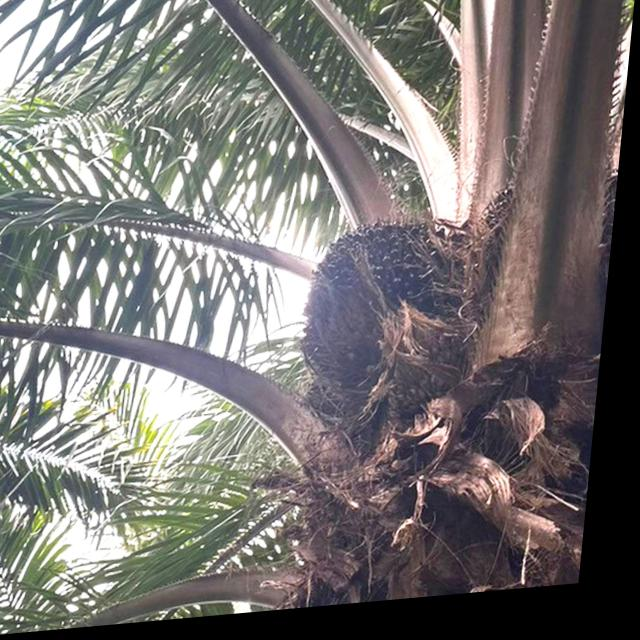unripe: (297, 220, 452, 419)
